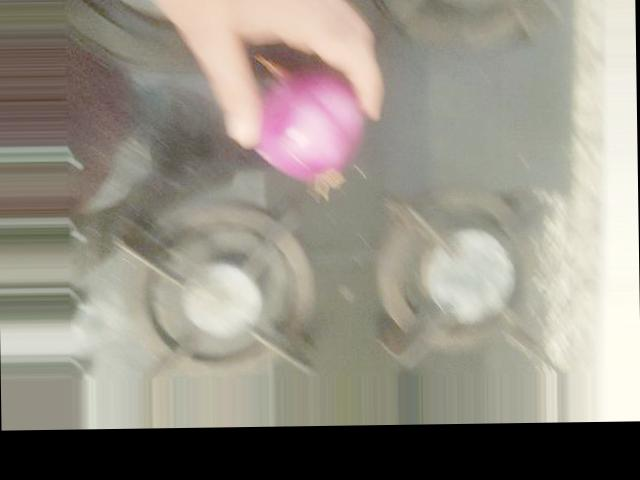onion: (249, 59, 371, 181)
